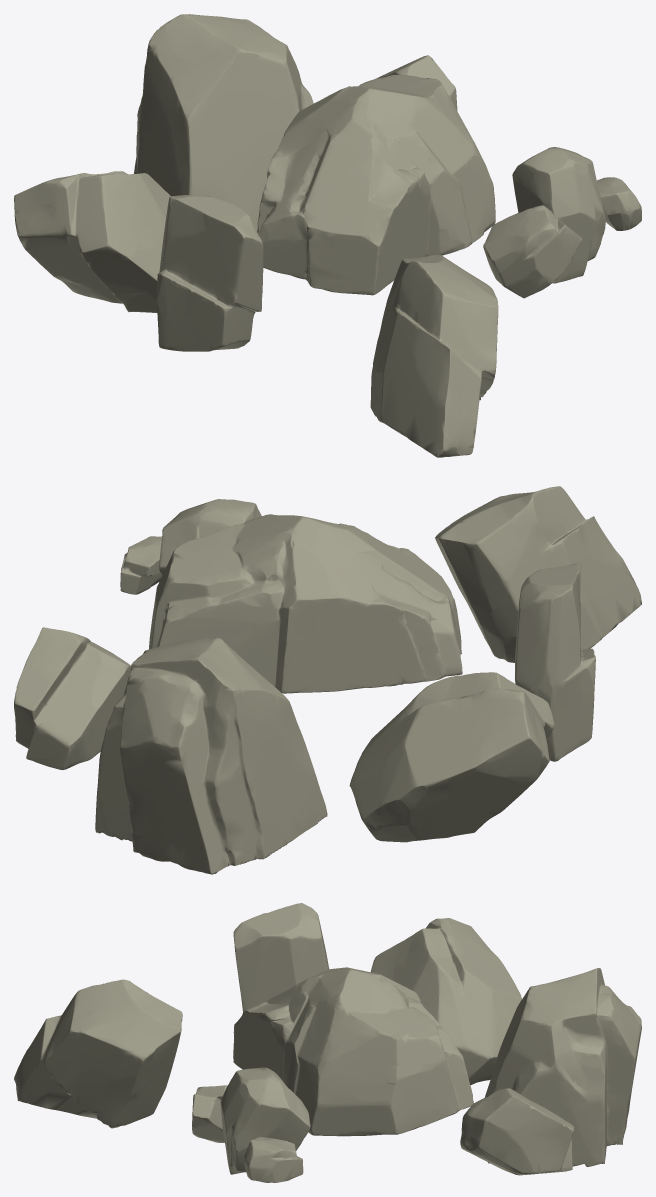
The picture shows the model from 3 angles, top to bottom: view 1: azimuth 30°, elevation 25°; view 2: azimuth 150°, elevation 25°; view 3: azimuth 270°, elevation 25°; orthographic projection. The views are drawn at different scales.
Visible parts, largest first — view 1: SM_BM_Cliff_Bottom_02_LOD0; view 2: SM_BM_Cliff_Bottom_02_LOD0; view 3: SM_BM_Cliff_Bottom_02_LOD0.
Boxes of the visible parts, box(x1,y1,x2,y2) form: SM_BM_Cliff_Bottom_02_LOD0: box(14, 14, 641, 457); SM_BM_Cliff_Bottom_02_LOD0: box(14, 486, 641, 874); SM_BM_Cliff_Bottom_02_LOD0: box(14, 903, 641, 1182).
Bounding box in the file's own units: 15.47 × 6.02 × 19.32.
